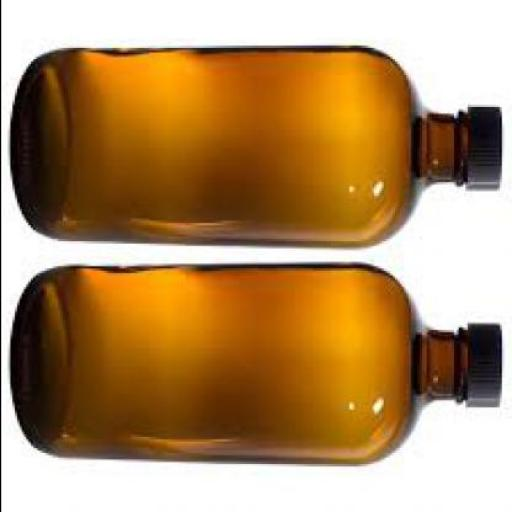glass: (11, 48, 469, 250), (14, 266, 472, 468)
plastic: (468, 325, 503, 412), (471, 110, 505, 196)
